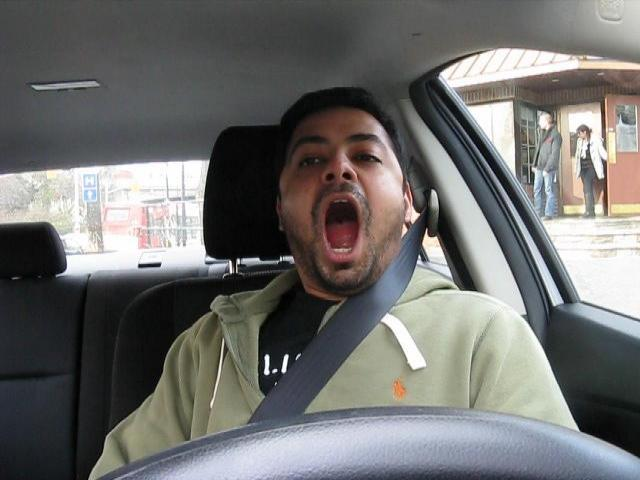eye_open: (347, 146, 386, 166), (294, 152, 330, 170)
face: (283, 119, 403, 291)
mouth_open: (318, 192, 366, 262)
